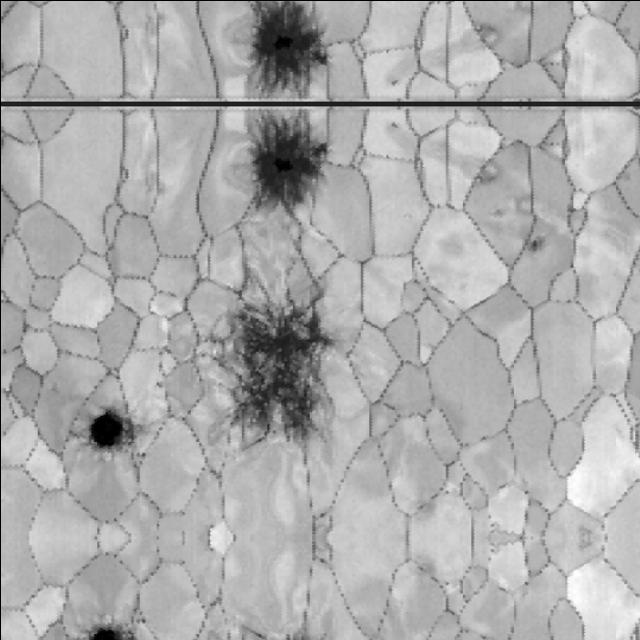good_void: (199, 274, 329, 464), (243, 107, 322, 210), (243, 0, 322, 97), (71, 400, 133, 459), (461, 150, 502, 188), (461, 16, 502, 54), (87, 614, 128, 640), (517, 231, 546, 254), (483, 202, 505, 222), (387, 120, 397, 129), (387, 75, 397, 84)
